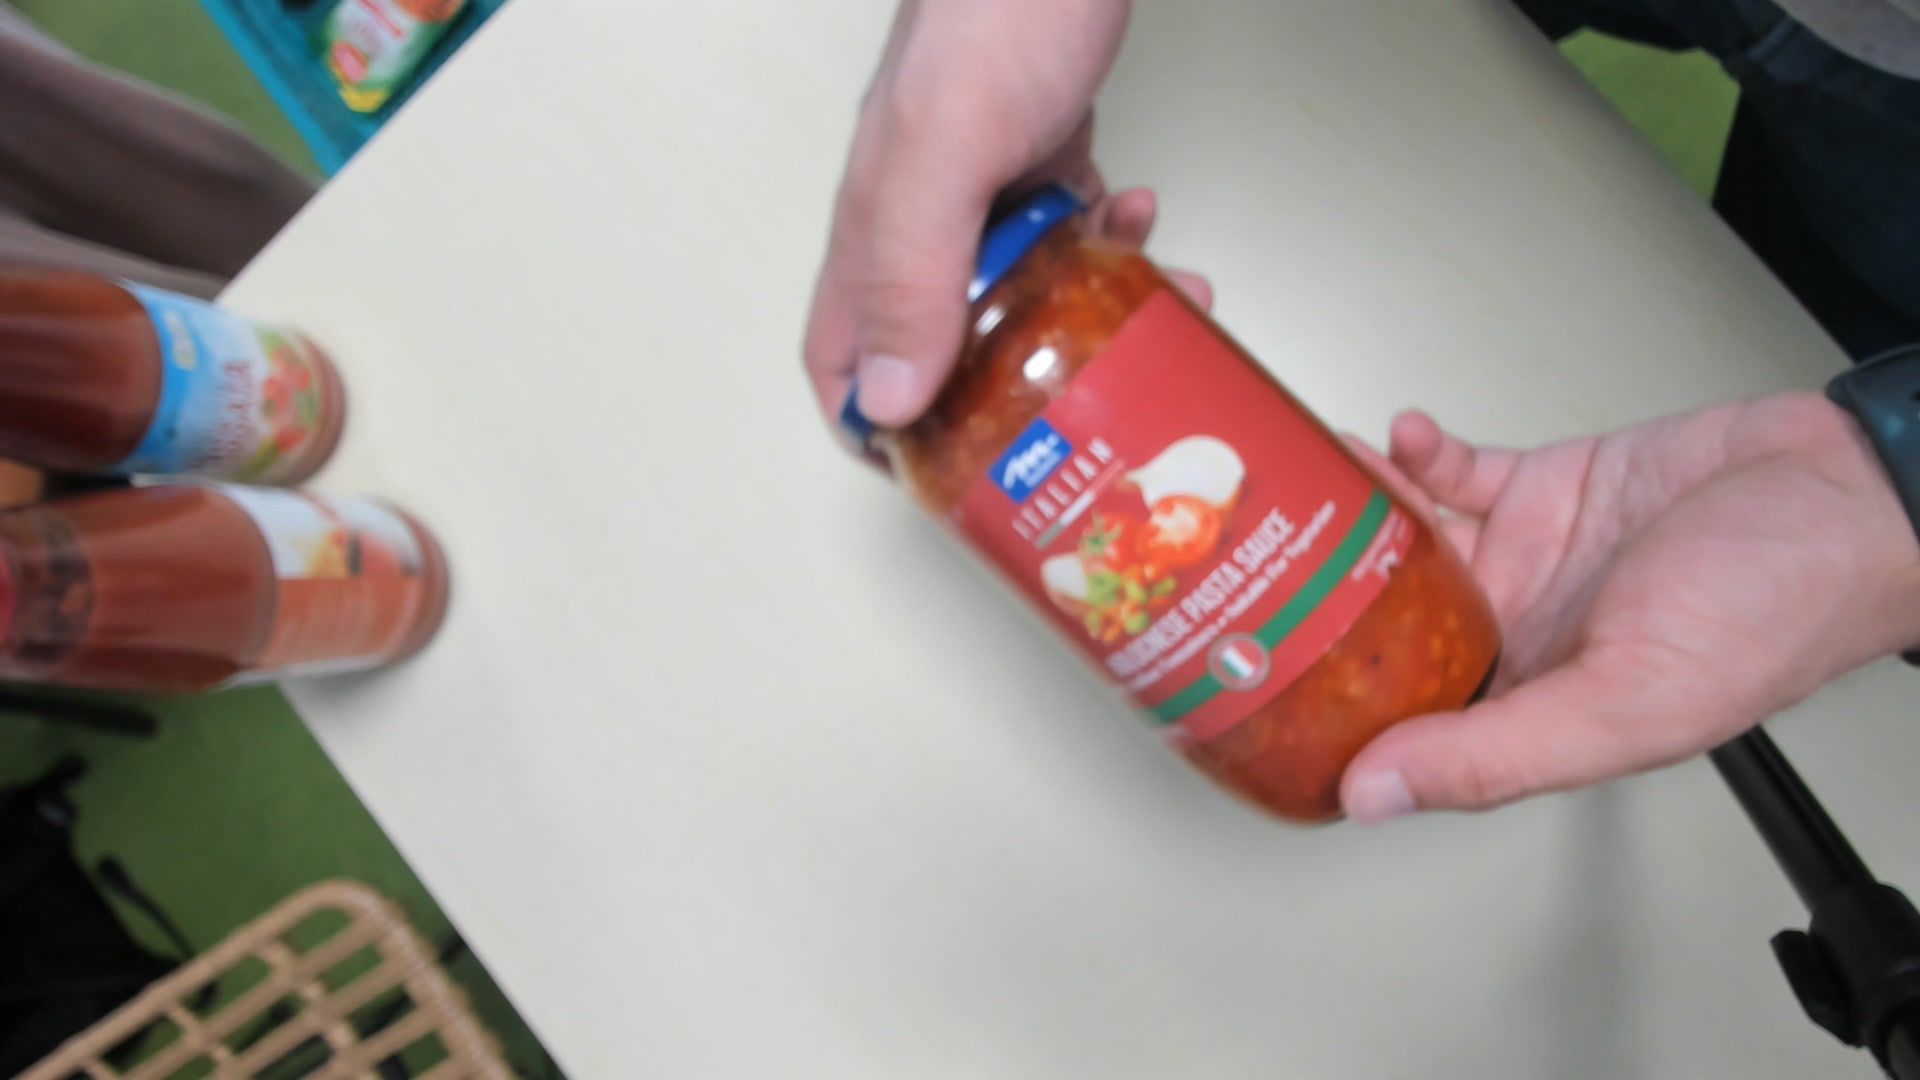PastaSauce_600-699g_Halal_NonHealthy: (855, 194, 1505, 827)
